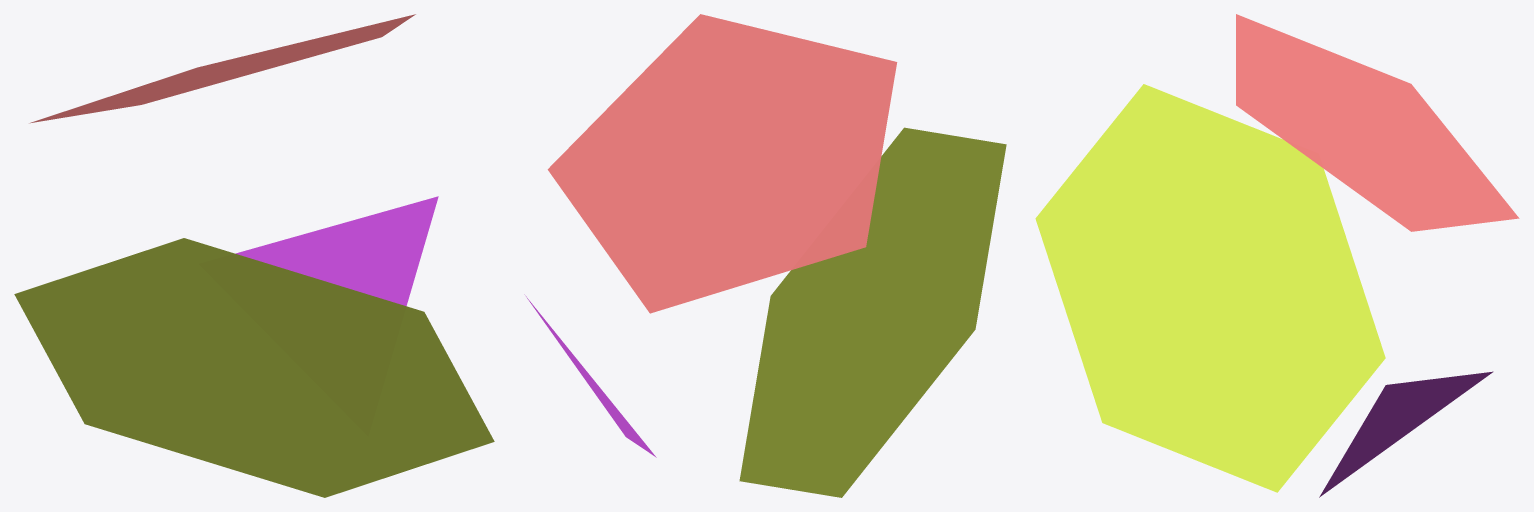
Rendered from GreatIcosicosidodecahedronF.obj.
3 views of the same model, side by side, from view 1: azimuth 30°, elevation 25°; view 2: azimuth 150°, elevation 25°; view 3: azimuth 270°, elevation 25° (orthographic). The views are drawn at different scales.
Bounding box in the file's own units: 2.12 × 2.12 × 2.24.
